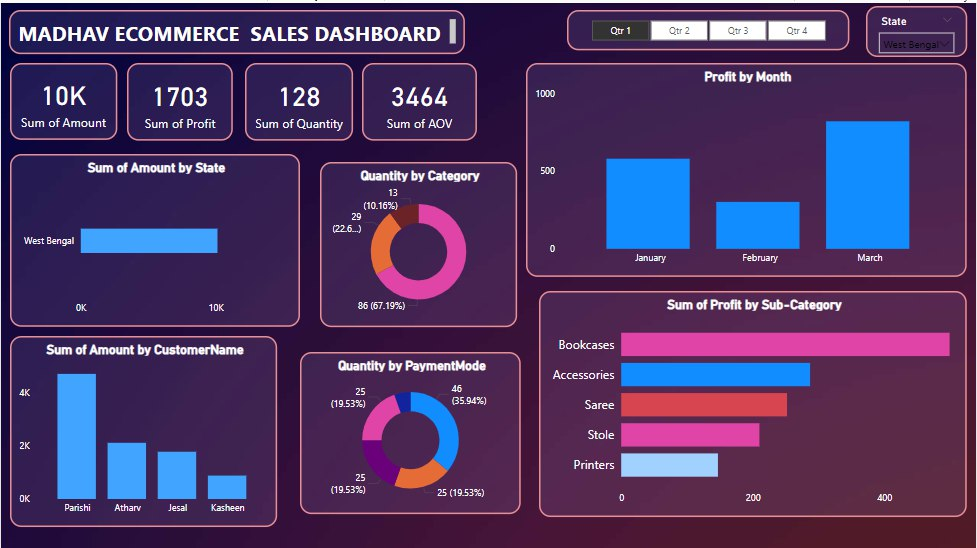

Layout of this report page (visuals, bound fields, positions):
{"tool":"powerbi","page":{"name":"Page 1","canvas":[1280,720],"ordinal":0},"visuals":[{"type":"textbox","box":[10.5,9.2,599.1,57.8],"z":0},{"type":"columnChart","title":"Profit by Month","fields":{"Y":["Details.Profit"],"Category":["Orders.Order Date.Variation.Date Hierarchy.Month"]},"box":[689.8,78.8,579.4,281.2],"z":1000},{"type":"barChart","fields":{"Category":["Details.Sub-Category"],"Y":["Details.Profit"]},"box":[706.9,378.4,562.3,296.9],"z":2000},{"type":"donutChart","title":"Quantity by Category","fields":{"Category":["Details.Category"],"Y":["Details.Quantity"]},"box":[419.1,208.9,258.8,216.8],"z":3000},{"type":"donutChart","title":"Quantity by PaymentMode","fields":{"Y":["Details.Quantity"],"Category":["Details.PaymentMode"]},"box":[392.8,458.5,290.4,212.8],"z":4000},{"type":"card","fields":{"Values":["Details.Amount"]},"box":[11.8,78.8,140.6,101.2],"z":5000},{"type":"card","fields":{"Values":["Details.Quantity"]},"box":[320.6,78.8,141.9,102.5],"z":6000},{"type":"card","fields":{"Values":["Details.Profit"]},"box":[165.5,78.8,139.3,102.5],"z":7000},{"type":"card","fields":{"Values":["Details.AOV"]},"box":[474.3,78.8,151.1,102.5],"z":8000},{"type":"barChart","fields":{"Category":["Orders.State"],"Y":["Details.Amount"]},"box":[11.4,198.4,381,226.9],"z":9000},{"type":"columnChart","fields":{"Category":["Orders.CustomerName"],"Y":["Details.Amount"]},"box":[11.4,438.1,351,251.1],"z":10000},{"type":"slicer","fields":{"Values":["Orders.Order Date.Variation.Date Hierarchy.Quarter"]},"box":[743.6,9.2,370.5,52.6],"z":11000},{"type":"slicer","fields":{"Values":["Orders.State"]},"box":[1136.5,3.9,132.7,67],"z":12000}]}

Visuals, with their boxes in screenshot pixels (x1, y1, x2, y2), scaled from the page's 1280x720 canvas onto the 977x548 screenshot:
textbox: box=[8, 7, 465, 51]
"Profit by Month" columnChart: box=[527, 60, 969, 274]
barChart - Details.Sub-Category x Details.Profit: box=[540, 288, 969, 514]
"Quantity by Category" donutChart: box=[320, 159, 517, 324]
"Quantity by PaymentMode" donutChart: box=[300, 349, 521, 511]
card - Details.Amount: box=[9, 60, 116, 137]
card - Details.Quantity: box=[245, 60, 353, 138]
card - Details.Profit: box=[126, 60, 233, 138]
card - Details.AOV: box=[362, 60, 477, 138]
barChart - Orders.State x Details.Amount: box=[9, 151, 300, 324]
columnChart - Orders.CustomerName x Details.Amount: box=[9, 333, 277, 525]
slicer - Orders.Order Date.Variation.Date Hierarchy.Quarter: box=[568, 7, 850, 47]
slicer - Orders.State: box=[867, 3, 969, 54]
